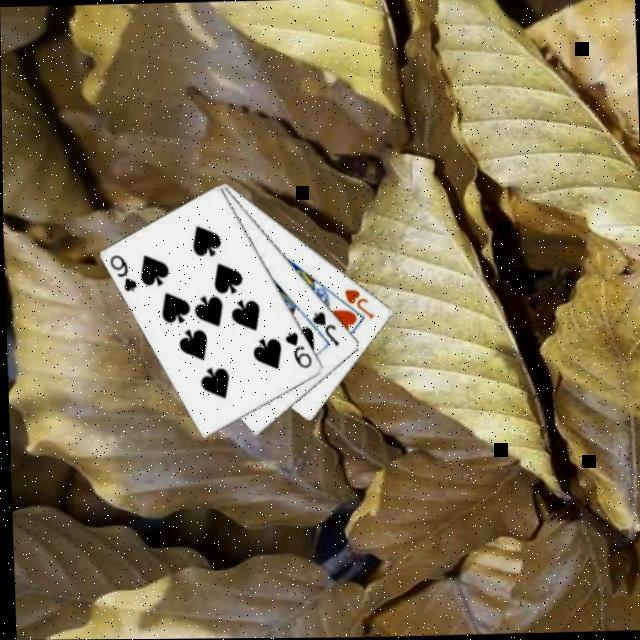9S: (281, 328, 315, 374), (106, 252, 140, 296)
JH: (341, 286, 377, 324)
JS: (308, 310, 342, 350)
